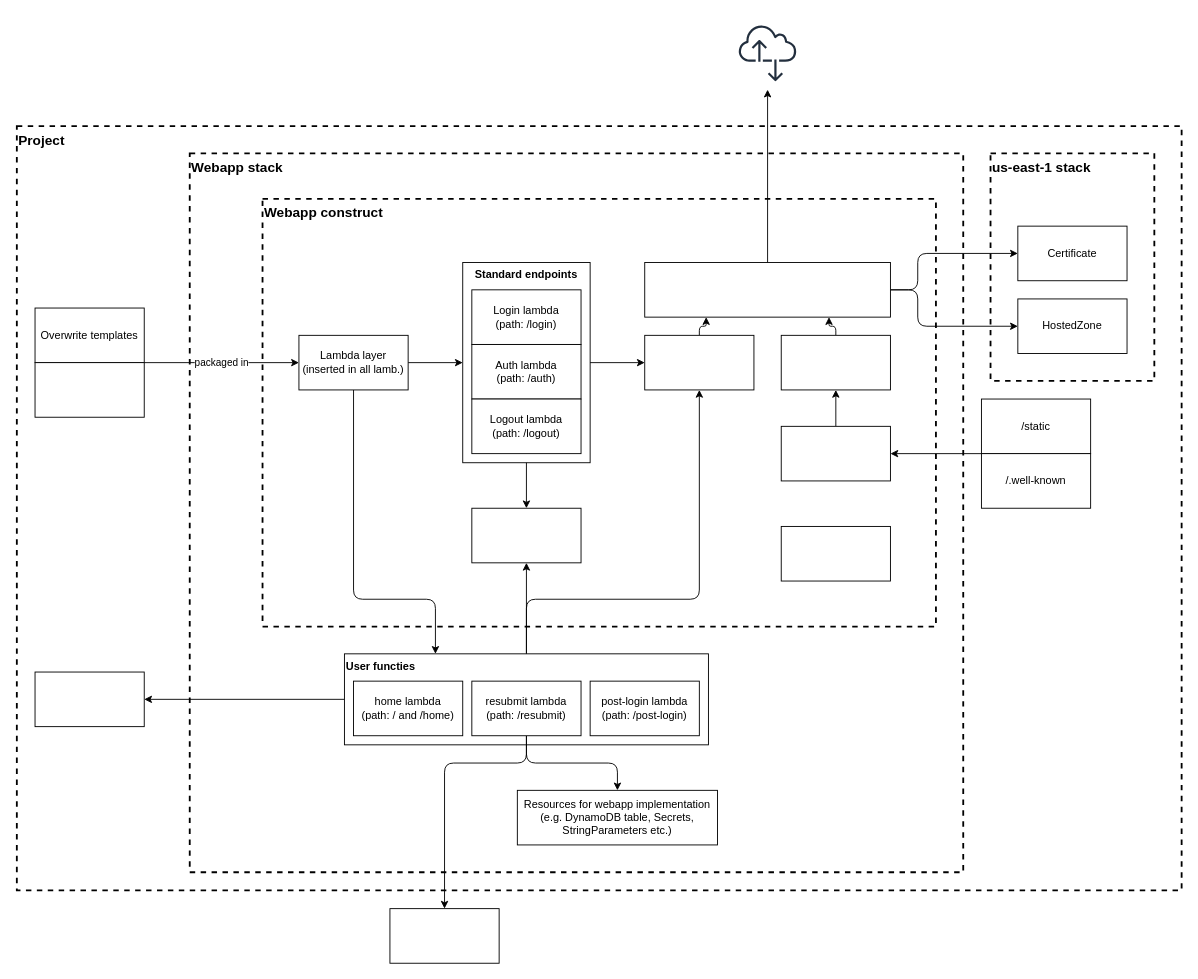
Image size: 1198x979. Some labels were removed from this diagram. The centre of each missing label's shape, as x and y in pixels:
Additional custom shared files (e.g. nav): pixel 89 699
API gateway: pixel 699 362
CloudfFront: pixel 767 289
Configuration files for runtime: pixel 89 389
Deploy statics: pixel 835 453
eform-api (external API): pixel 444 935
Lambda error log alarms: pixel 835 553
SessionTable: pixel 526 535
Statics bucket: pixel 835 362
